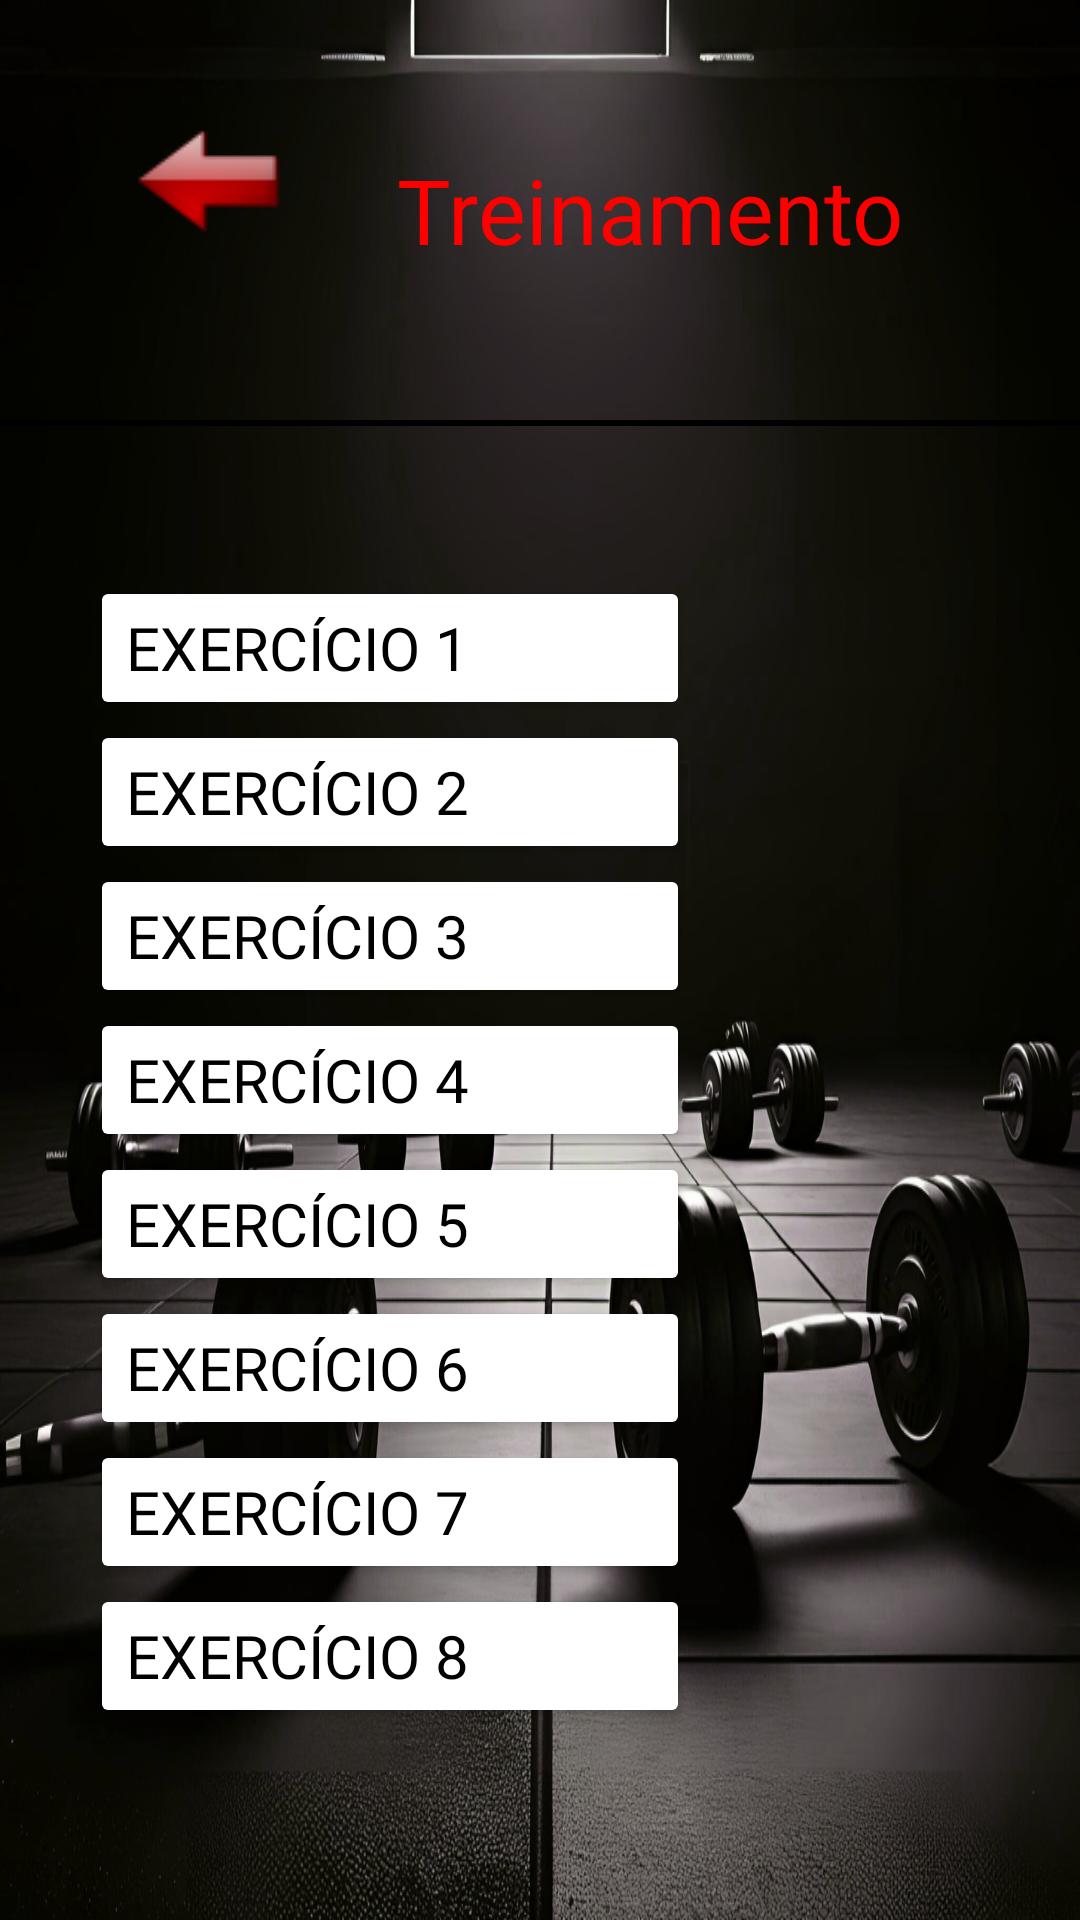

Icons on this 1080px x 1920px Android screen, each with the point to tap as (x,y):
arrow: (240,152)
